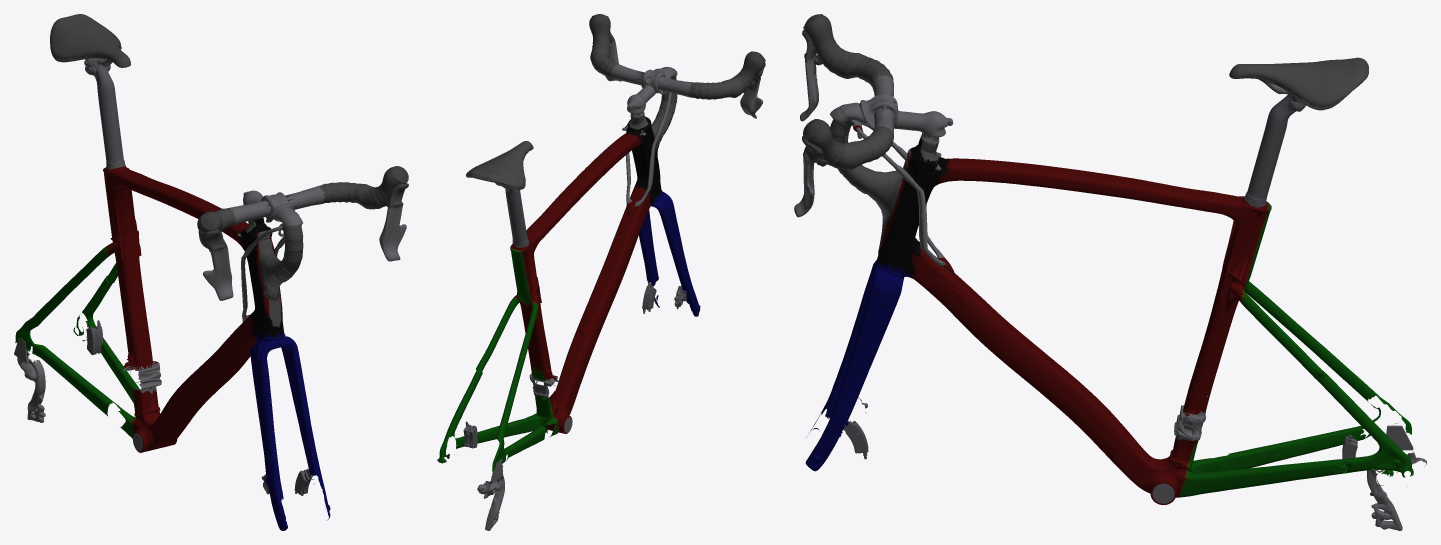
Rendered from roubaix61_lod0.glb.
3 views of the same model, side by side, from view 1: azimuth 30°, elevation 25°; view 2: azimuth 150°, elevation 25°; view 3: azimuth 270°, elevation 25° (orthographic). The views are drawn at different scales.
Parts seen in each view (by area): view 1: frame, cockpit, fork, saddle, seatpost; view 2: frame, cockpit, fork, saddle, seatpost; view 3: frame, cockpit, fork, saddle, seatpost.
Part boxes in pixels (<box>): frame: <box>14,166,303,452</box>; cockpit: <box>197,166,408,300</box>; fork: <box>232,326,330,530</box>; saddle: <box>50,14,130,128</box>; seatpost: <box>101,125,125,170</box>; frame: <box>437,74,677,530</box>; cockpit: <box>589,14,765,118</box>; fork: <box>619,187,700,316</box>; saddle: <box>466,141,533,217</box>; seatpost: <box>509,214,528,247</box>; frame: <box>830,113,1426,530</box>; cockpit: <box>794,14,953,217</box>; fork: <box>805,255,964,471</box>; saddle: <box>1229,57,1368,160</box>; seatpost: <box>1244,156,1277,207</box>.
Bounding box in the file's own units: 0.495 × 0.9323 × 1.12.
